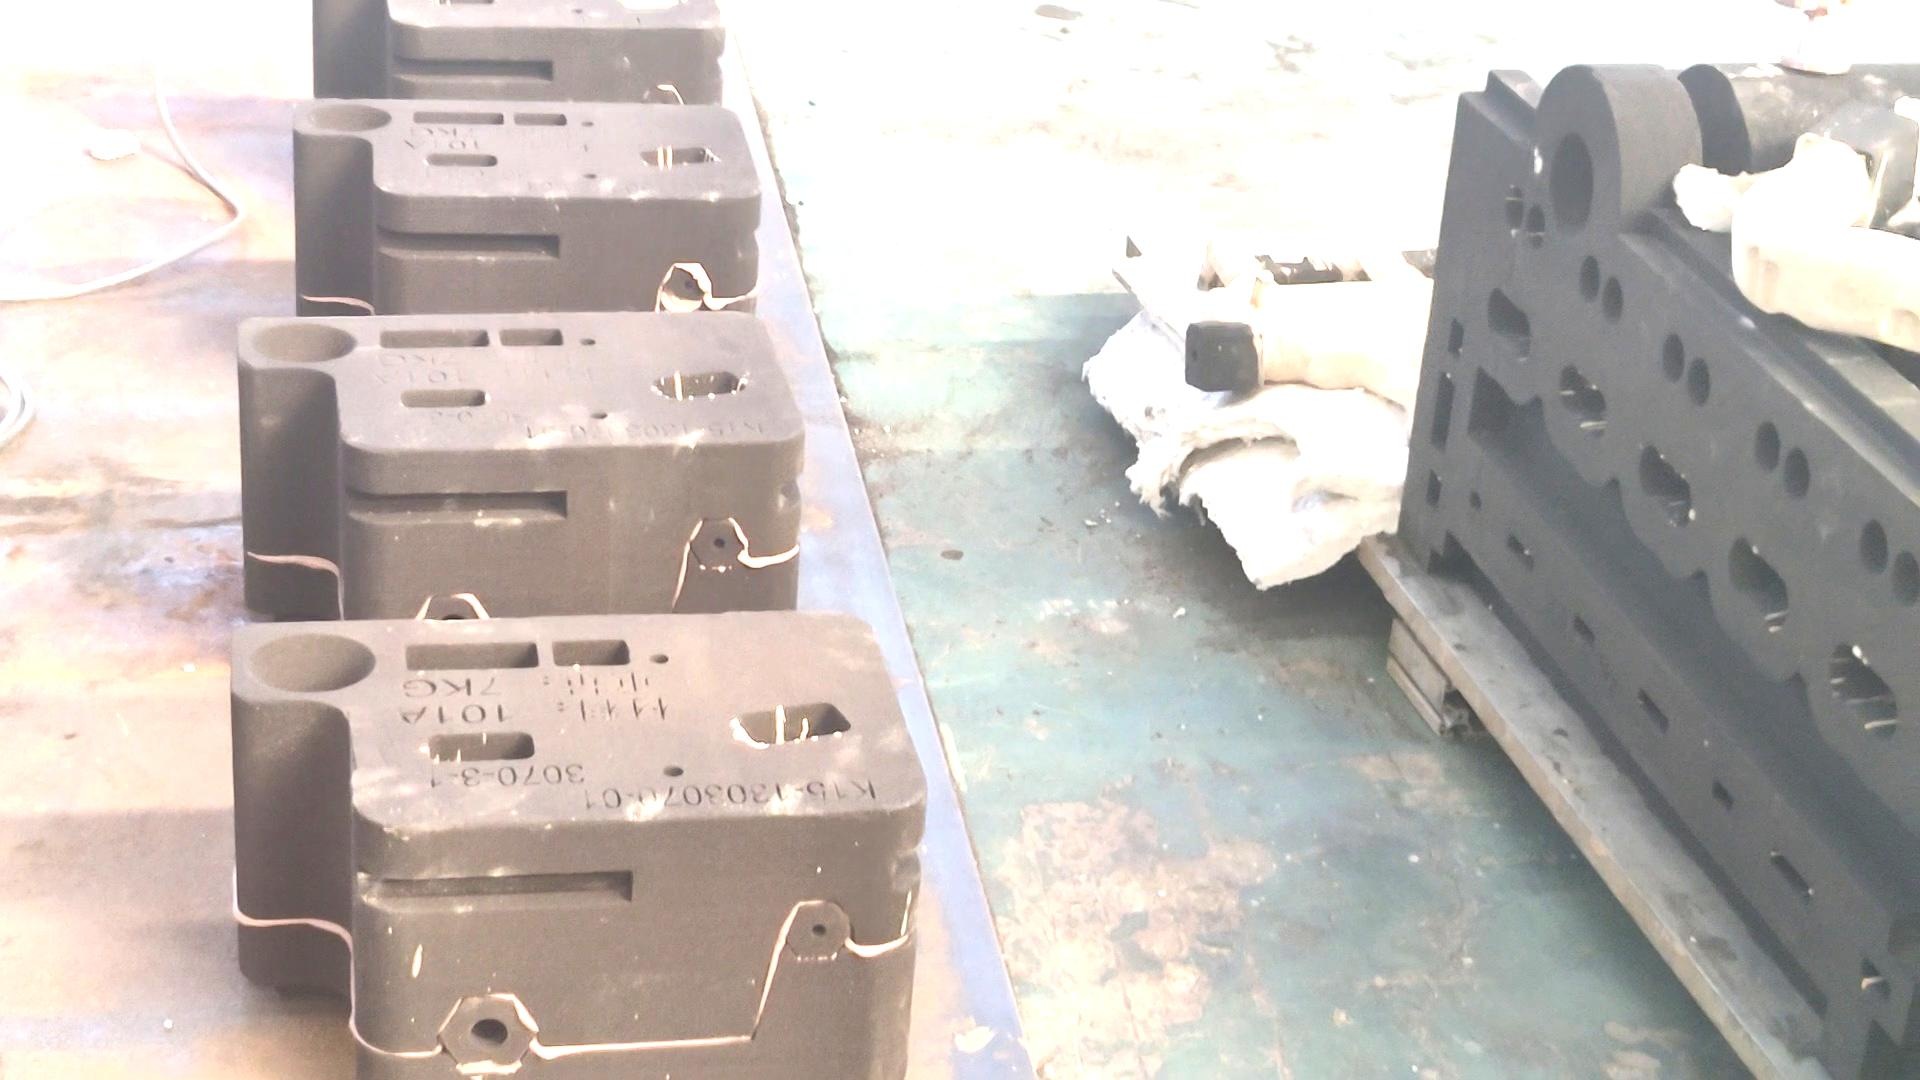pouring hole: (248, 633, 375, 694), (1547, 135, 1596, 231), (245, 323, 359, 363), (301, 102, 392, 133)
